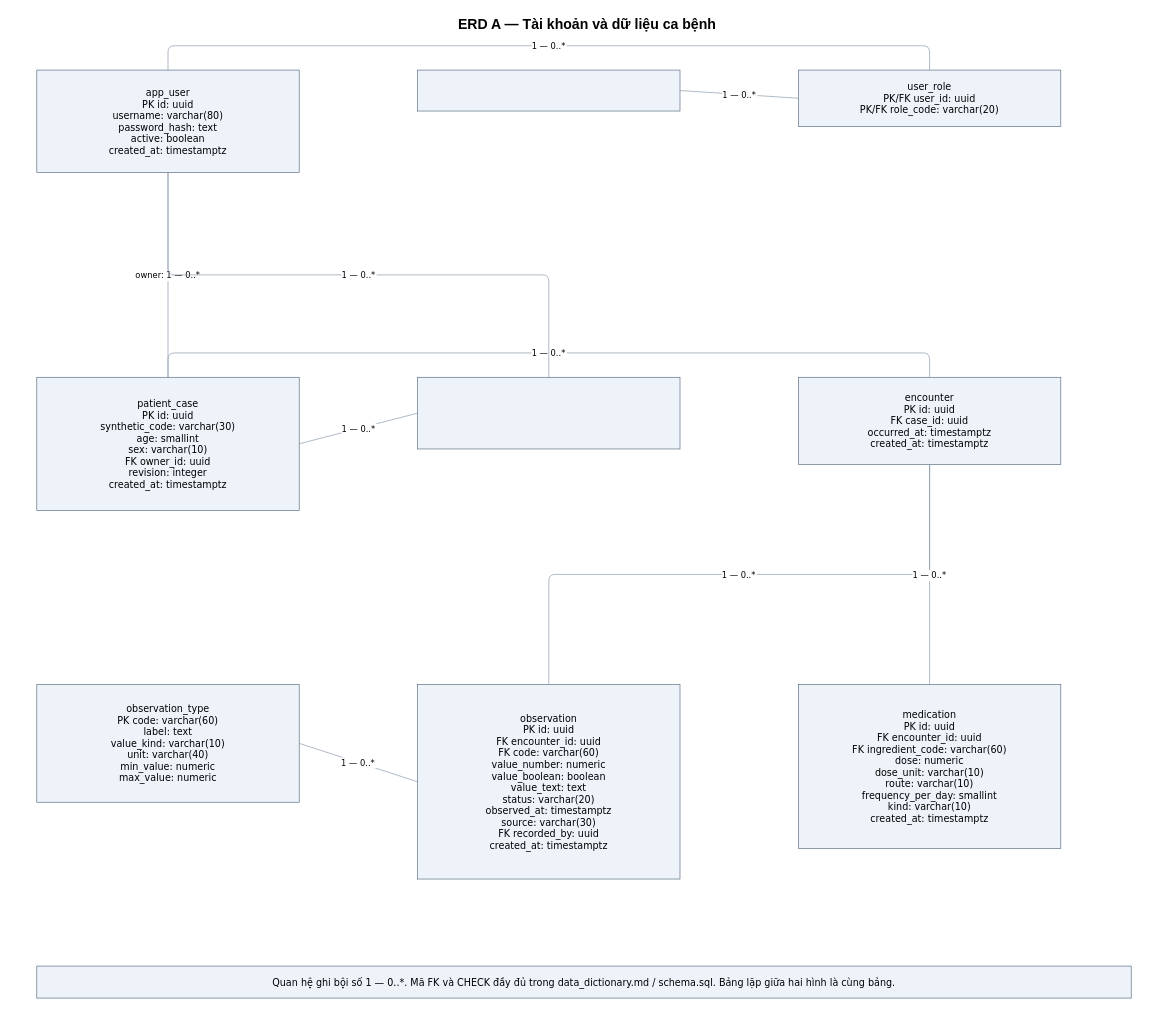
Some shapes in this 1174 by 1009 pixel diagram are drawn without their labels. The shapes that lost their labels are listed below. From the top down, each one's box as (x1, y1, x2, y2) in pixels, then its label:
(417, 69, 680, 111): role PK code: varchar(20)
(417, 377, 680, 449): case_access PK/FK case_id: uuid PK/FK user_id: uuid PK access_scope: varchar(20)
